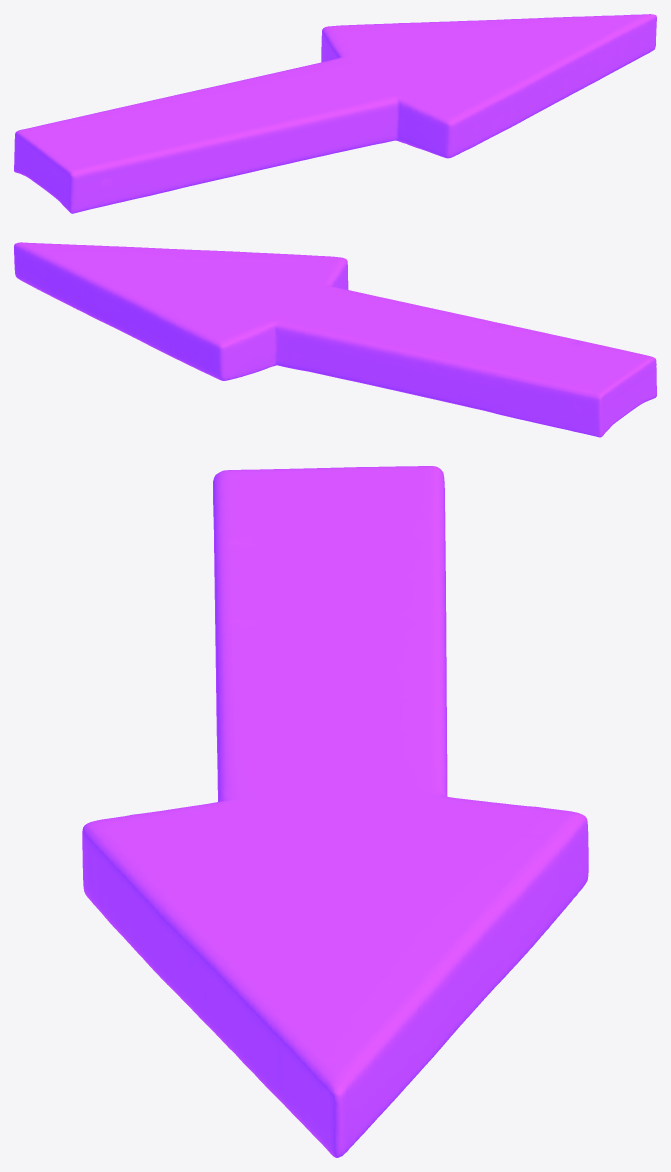
Rendered from modelmagenta.glb.
The picture shows the model from 3 angles, top to bottom: view 1: azimuth 30°, elevation 25°; view 2: azimuth 150°, elevation 25°; view 3: azimuth 270°, elevation 25°; orthographic projection. The views are drawn at different scales.
Visible parts, largest first — view 1: Mesh_0.001; view 2: Mesh_0.001; view 3: Mesh_0.001.
Boxes of the visible parts, left/top/right/bottom form: Mesh_0.001: left=14, top=14, right=656, bottom=213; Mesh_0.001: left=14, top=242, right=656, bottom=437; Mesh_0.001: left=82, top=466, right=588, bottom=1157.
Bounding box in the file's own units: 2 × 0.1624 × 0.716.
